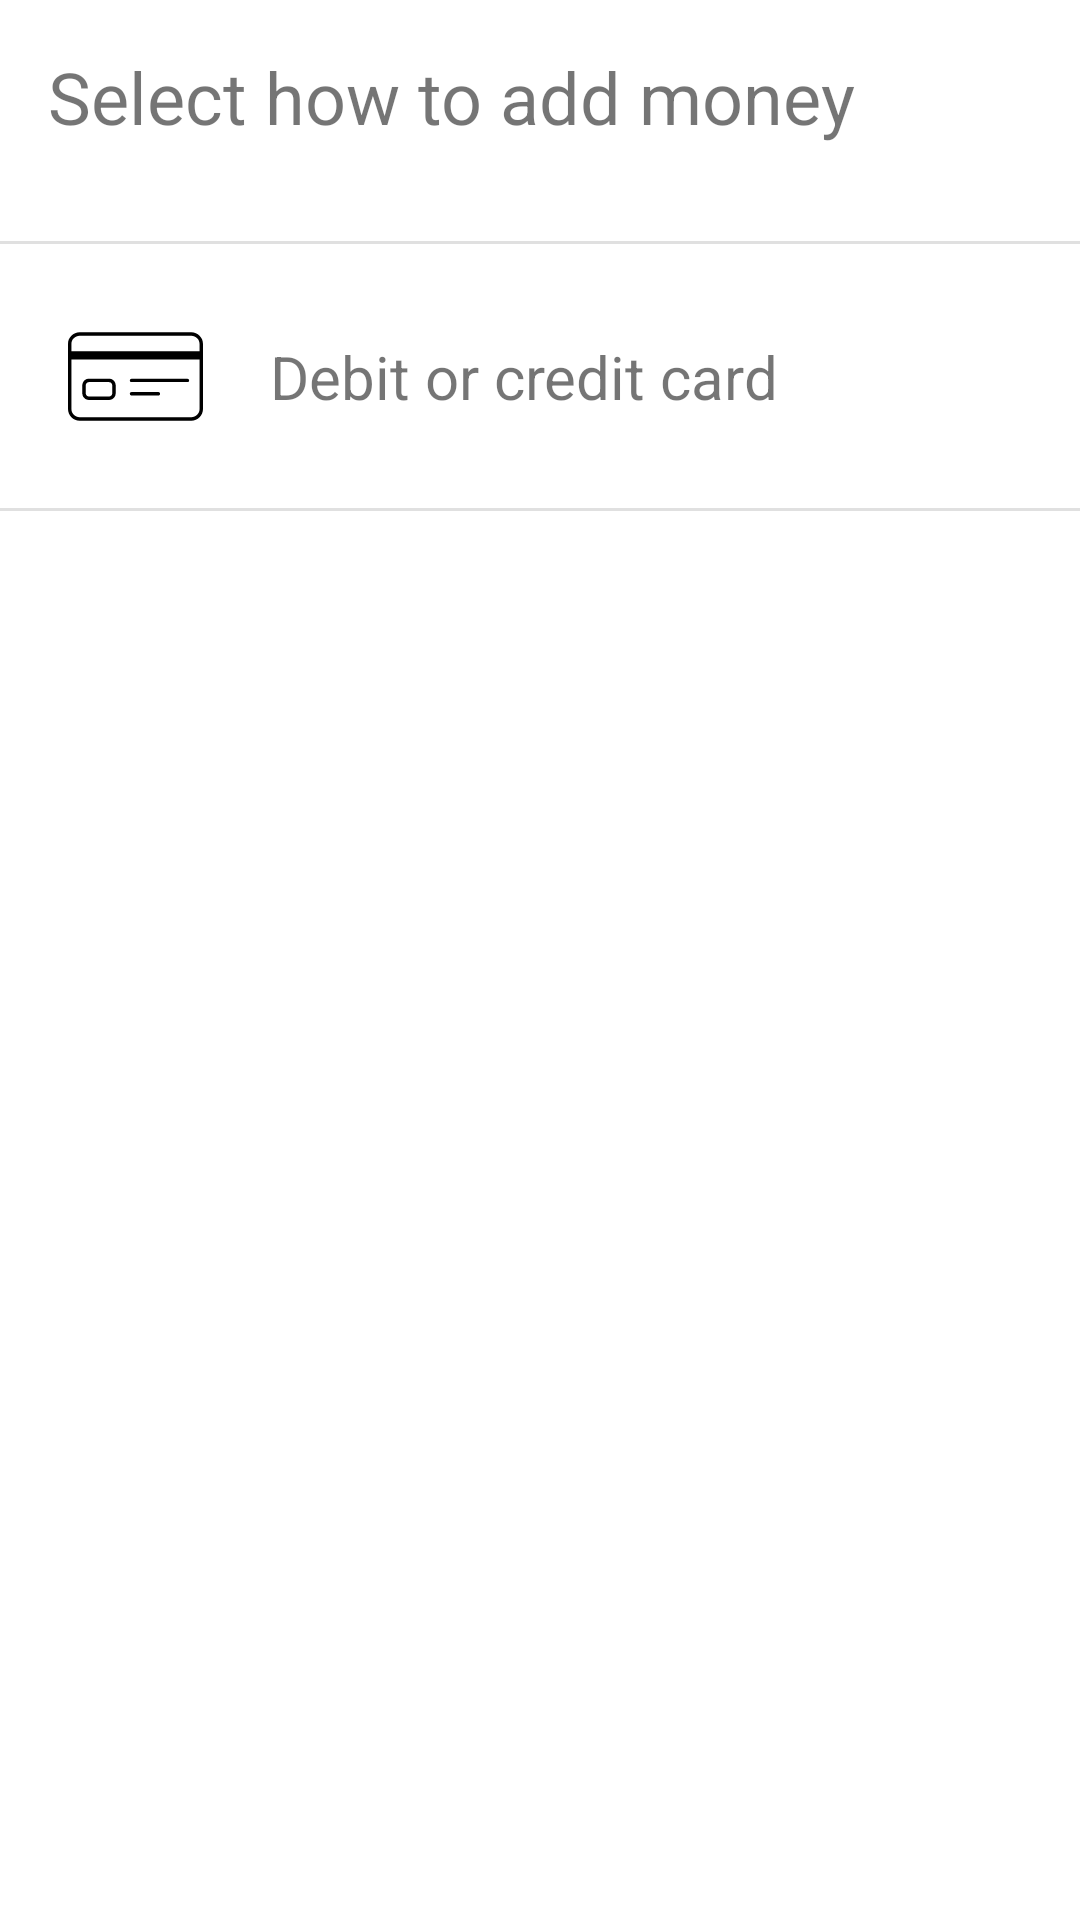

Icons on this 1080w x 1920h Android screen, each with the point to tap as [x,y]:
Payment type icon: [135,376]
